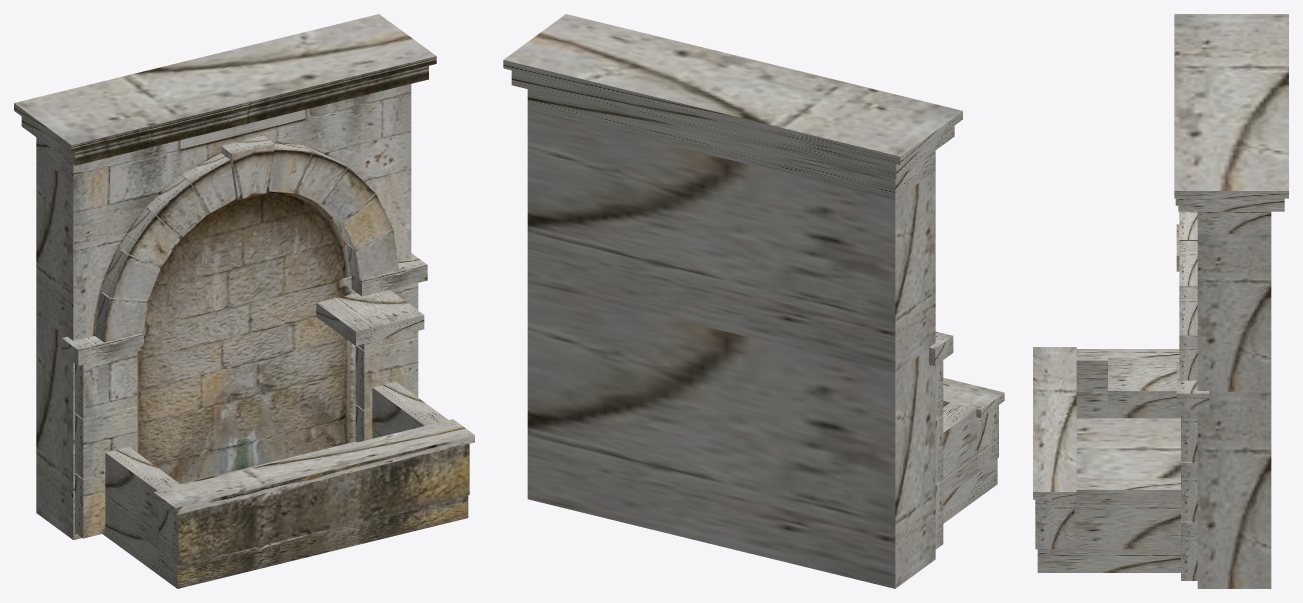
The model's file is hayrat.glb.
The picture shows the model from 3 angles, left to right: view 1: azimuth 30°, elevation 25°; view 2: azimuth 150°, elevation 25°; view 3: azimuth 270°, elevation 25°; orthographic projection. The views are drawn at different scales.
Parts seen in each view (by area): view 1: hayrat; view 2: hayrat; view 3: hayrat.
Part boxes in pixels (left/top/right/bottom): hayrat: left=14, top=14, right=474, bottom=588; hayrat: left=503, top=14, right=1004, bottom=588; hayrat: left=1033, top=14, right=1288, bottom=588.
Bounding box in the file's own units: 2.56 × 2.73 × 1.56.
Materials: 1 (1 with a texture image).
